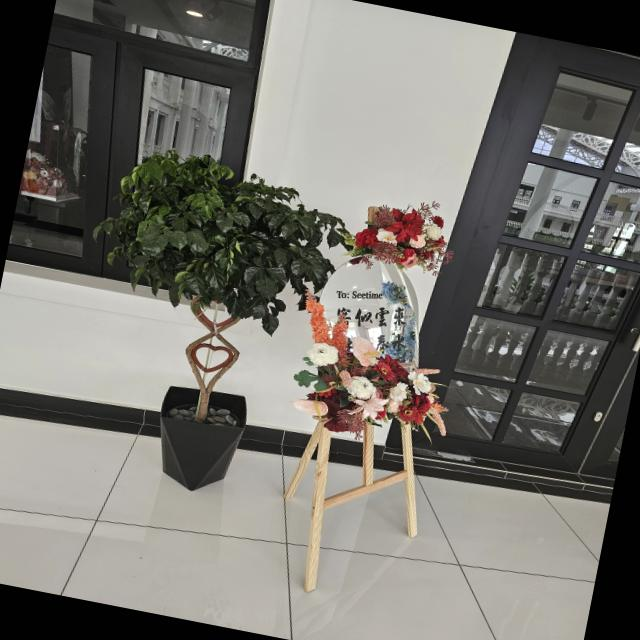door: (391, 24, 640, 497)
footpath: (0, 460, 593, 640)
obstacle: (47, 135, 368, 512), (254, 185, 483, 610), (146, 379, 252, 498)
